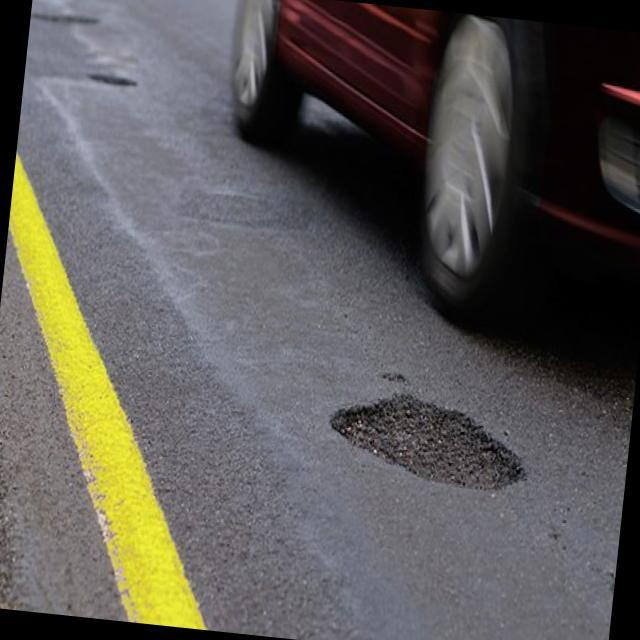Pothole: (338, 346, 520, 496), (29, 4, 118, 39), (86, 76, 145, 115)
